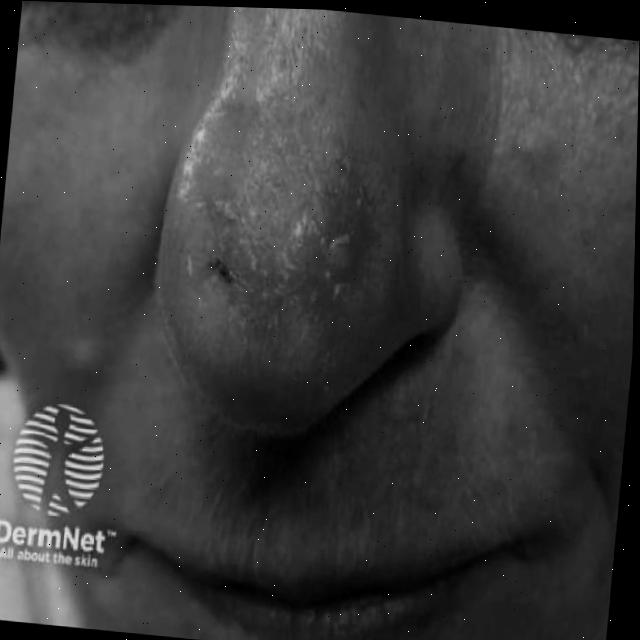lupus-detected: (153, 69, 459, 397)
